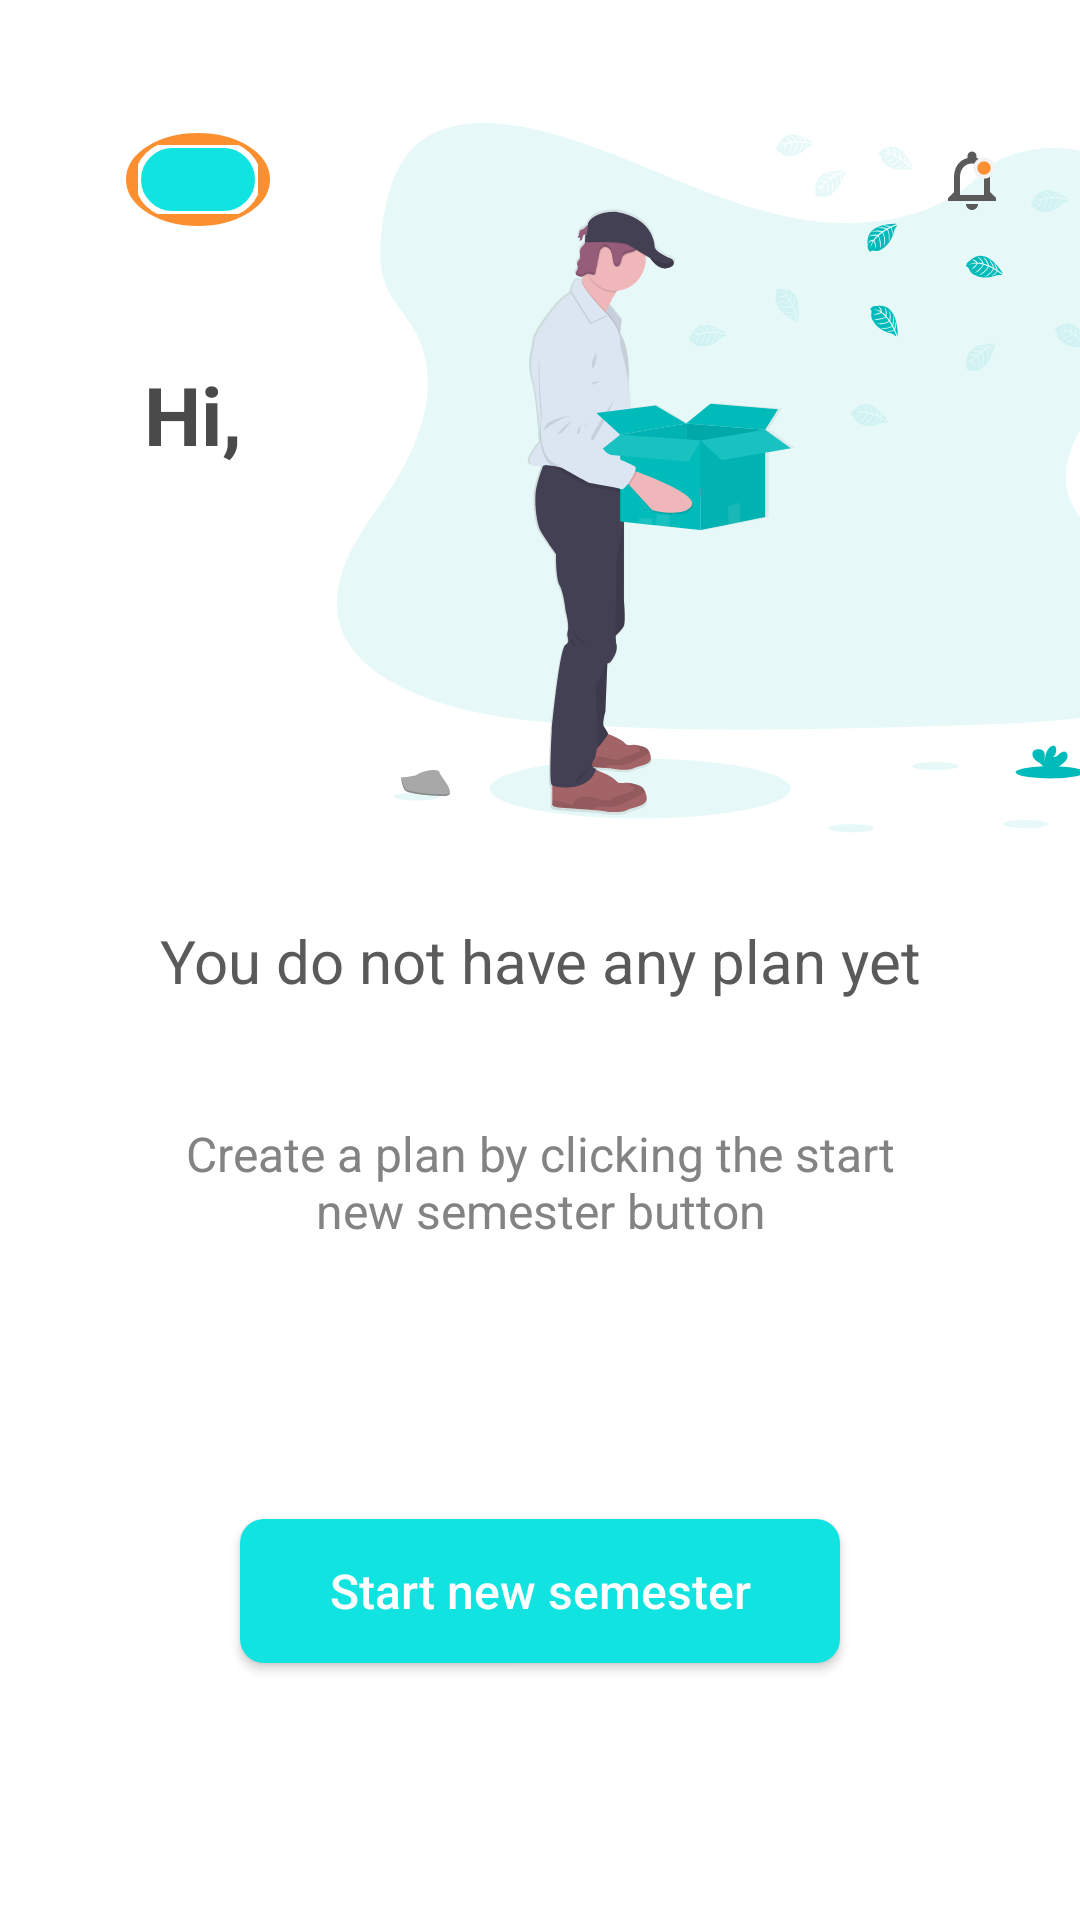

Named icons in this screenshot (1080px x 1920px) and their centers, point (x, y):
notifications: point (972, 180)
